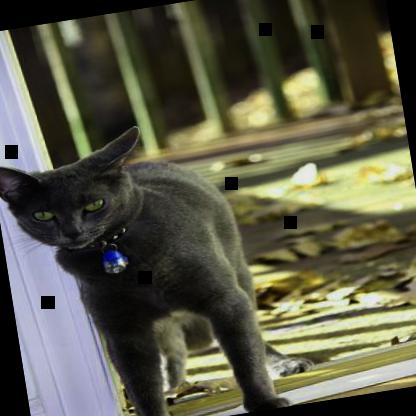cat: (0, 103, 319, 415)
